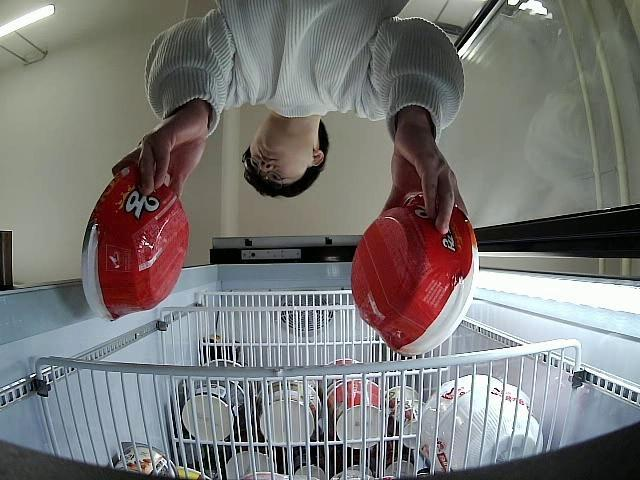10_wangTtukkeong: (352, 191, 476, 355), (80, 167, 190, 322)
